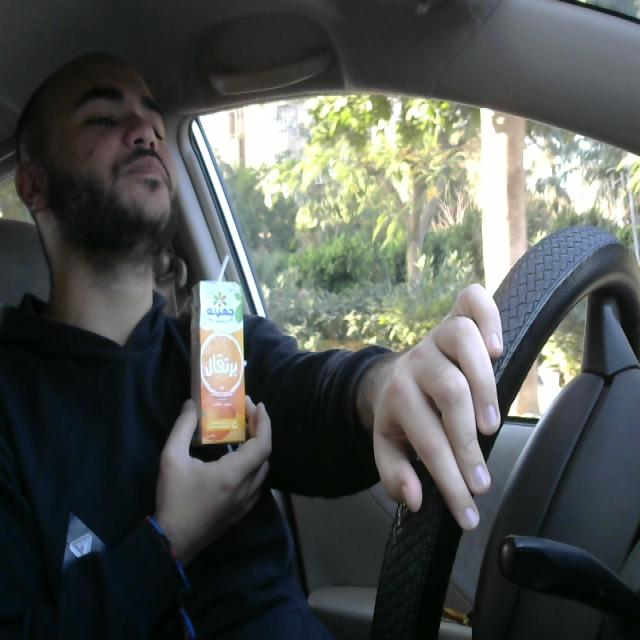drinking: (186, 237, 252, 458)
